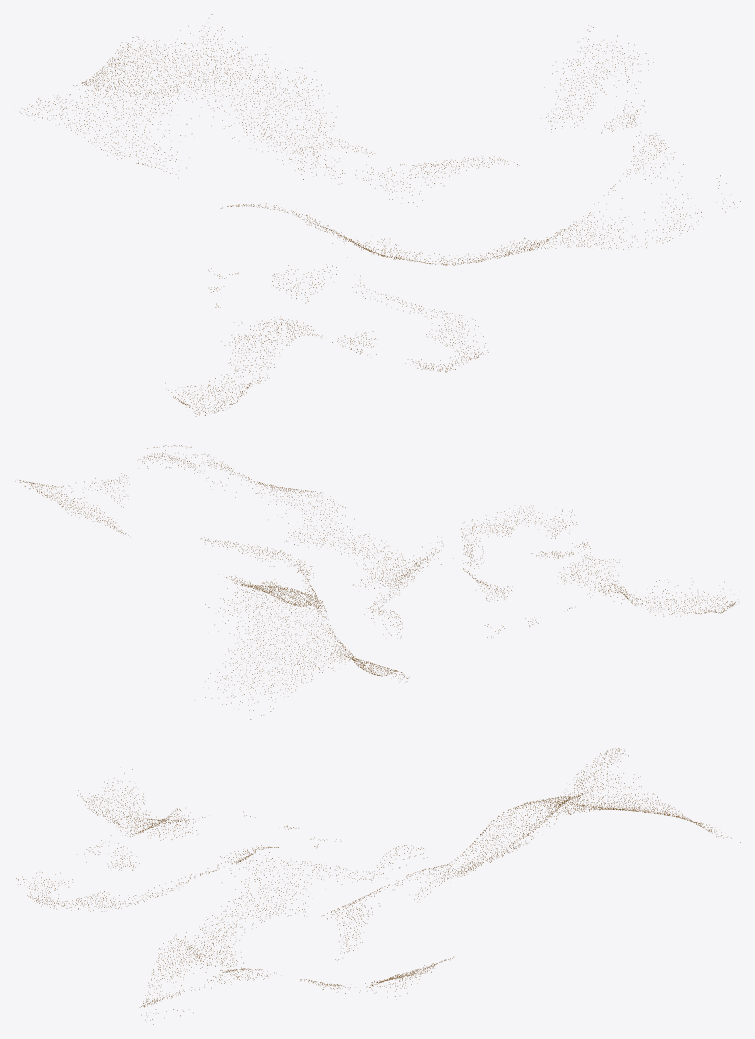
Rendered from Low Poly Rock Instances.glb.
3 views of the same model, one above another, from view 1: azimuth 30°, elevation 25°; view 2: azimuth 150°, elevation 25°; view 3: azimuth 270°, elevation 25° (orthographic). The views are drawn at different scales.
Size of the model in its own units: 199 by 39.38 by 199.
